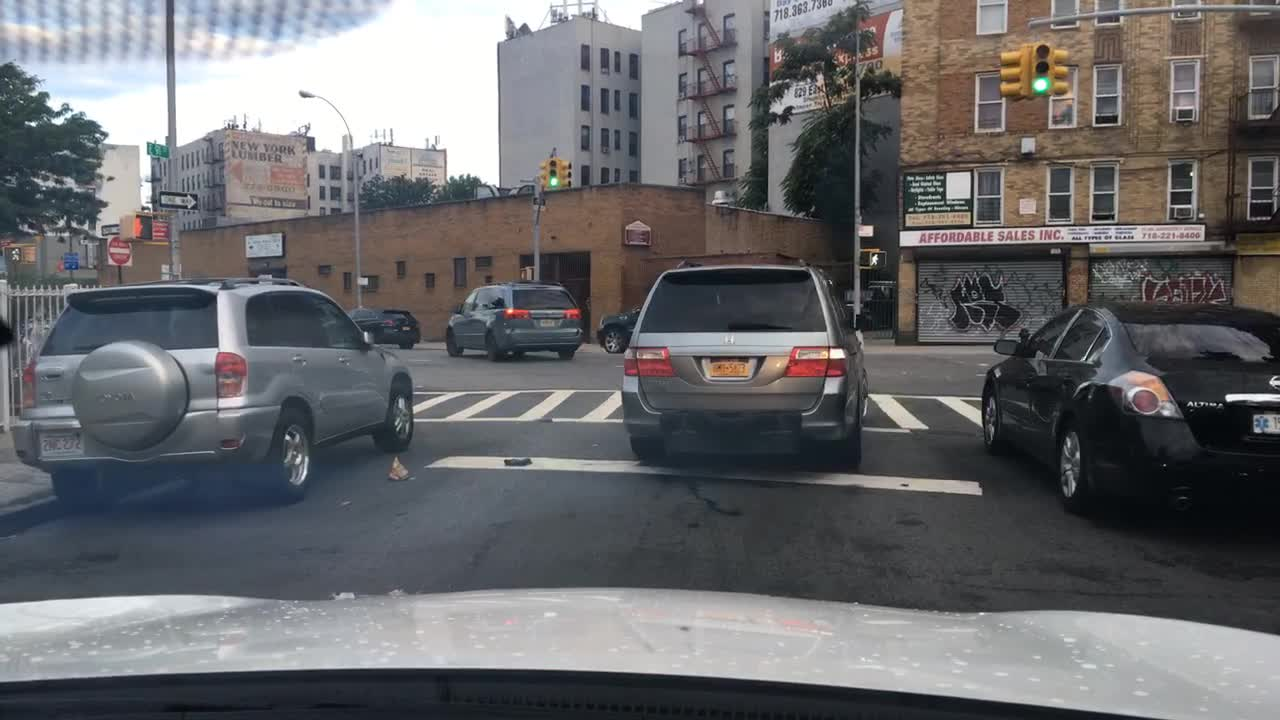car: (15, 275, 413, 507), (975, 297, 1278, 524), (617, 252, 871, 468), (443, 280, 582, 363), (346, 304, 420, 347), (594, 304, 642, 355)
traffic light: (998, 47, 1021, 98), (1050, 45, 1072, 96), (119, 210, 151, 244), (1029, 40, 1047, 95), (866, 250, 889, 270), (3, 242, 22, 264), (562, 159, 576, 188), (545, 157, 559, 185), (536, 161, 544, 185)
traffic sign: (156, 189, 200, 213), (104, 231, 129, 268), (145, 141, 168, 157), (58, 250, 78, 268), (859, 220, 871, 239), (98, 220, 114, 234), (530, 195, 543, 210)
